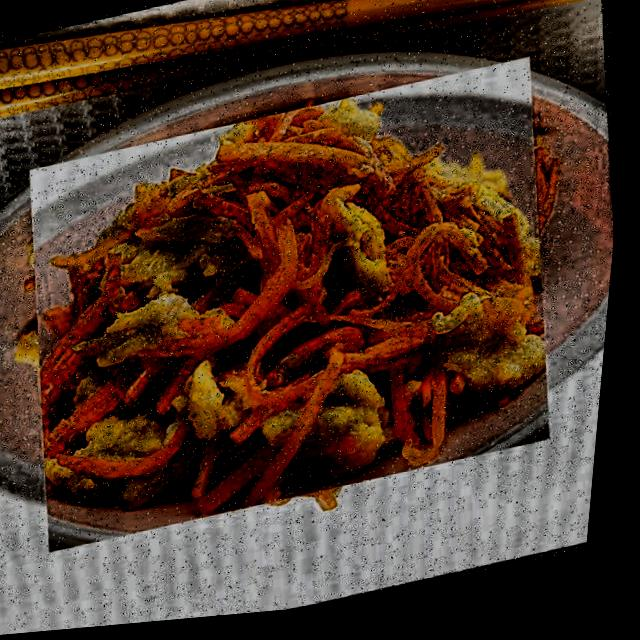Food: (3, 60, 588, 559)
